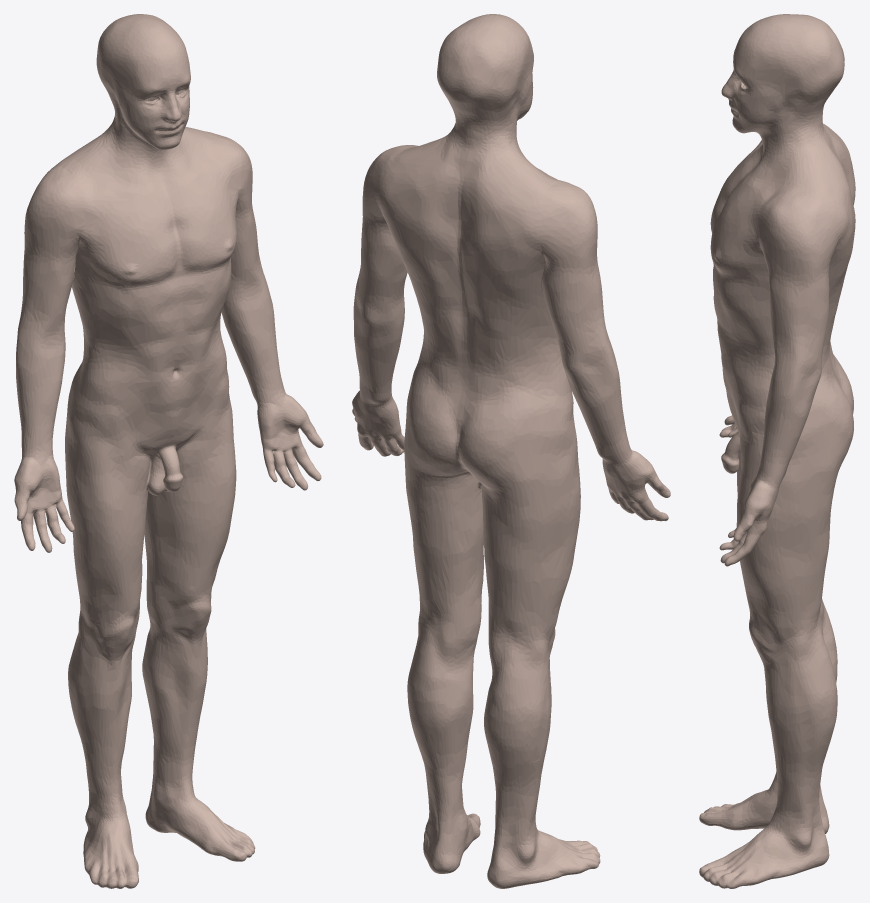
Rendered from integument.glb.
The picture shows the model from 3 angles, left to right: view 1: azimuth 30°, elevation 25°; view 2: azimuth 150°, elevation 25°; view 3: azimuth 270°, elevation 25°; orthographic projection. The views are drawn at different scales.
Visible parts, largest first — view 1: FJ2810; view 2: FJ2810; view 3: FJ2810.
Boxes of the visible parts, <box> form: FJ2810: <box>14,14,323,888</box>; FJ2810: <box>352,14,670,888</box>; FJ2810: <box>699,14,855,888</box>.
Bounding box in the file's own units: 0.667 × 1.72 × 0.2921.
